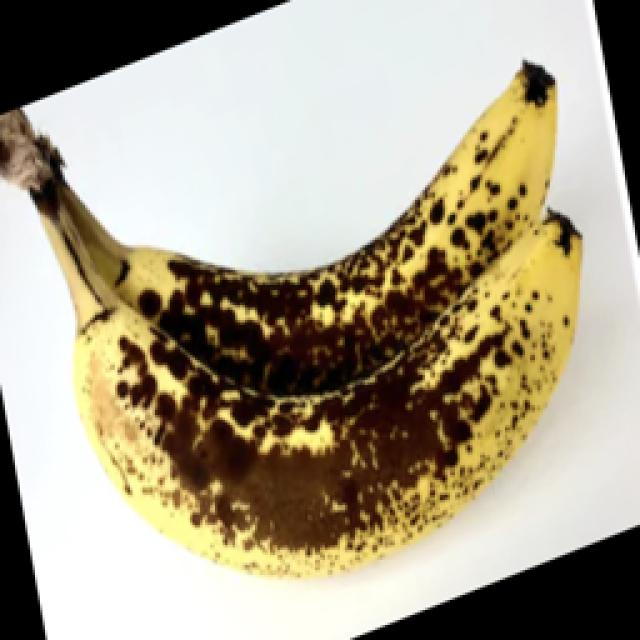Rotten_Banana: (17, 67, 640, 640)
